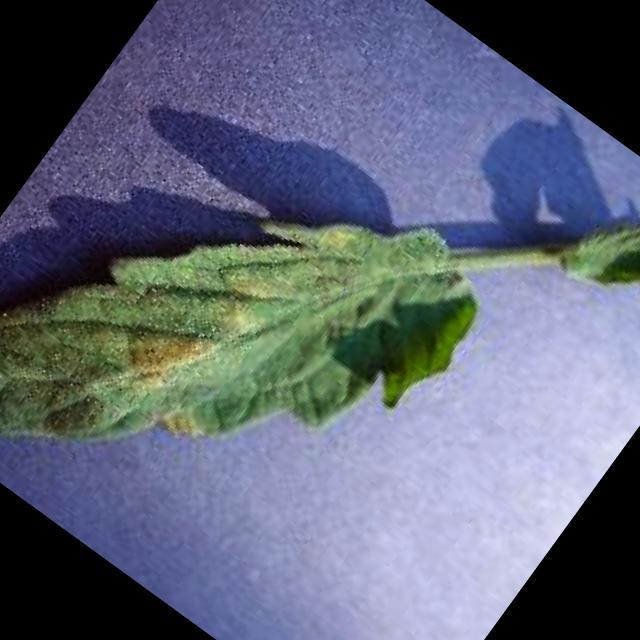Tomato mold leaf: (0, 26, 509, 640)
